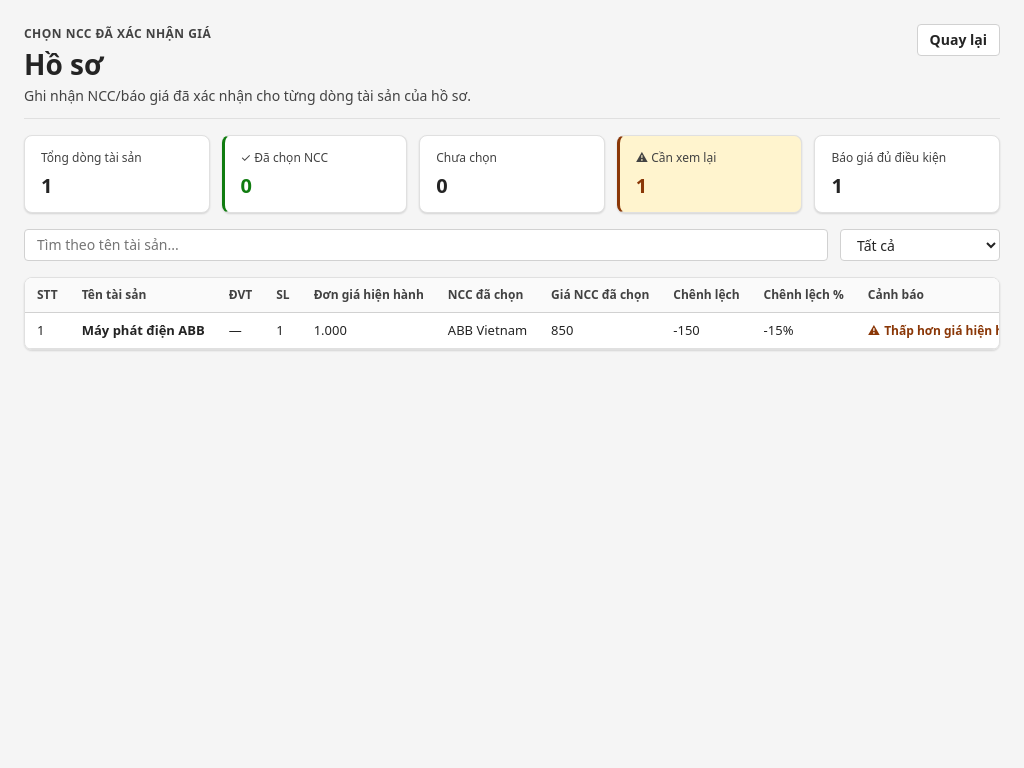
it: NccSelectionPage › starts with no candidate selected and no confirm CTA, even for stale lines
Click the row named "Xem chi tiết: Máy phát điện ABB".
click(524, 330)  # box [25,312,1023,348]
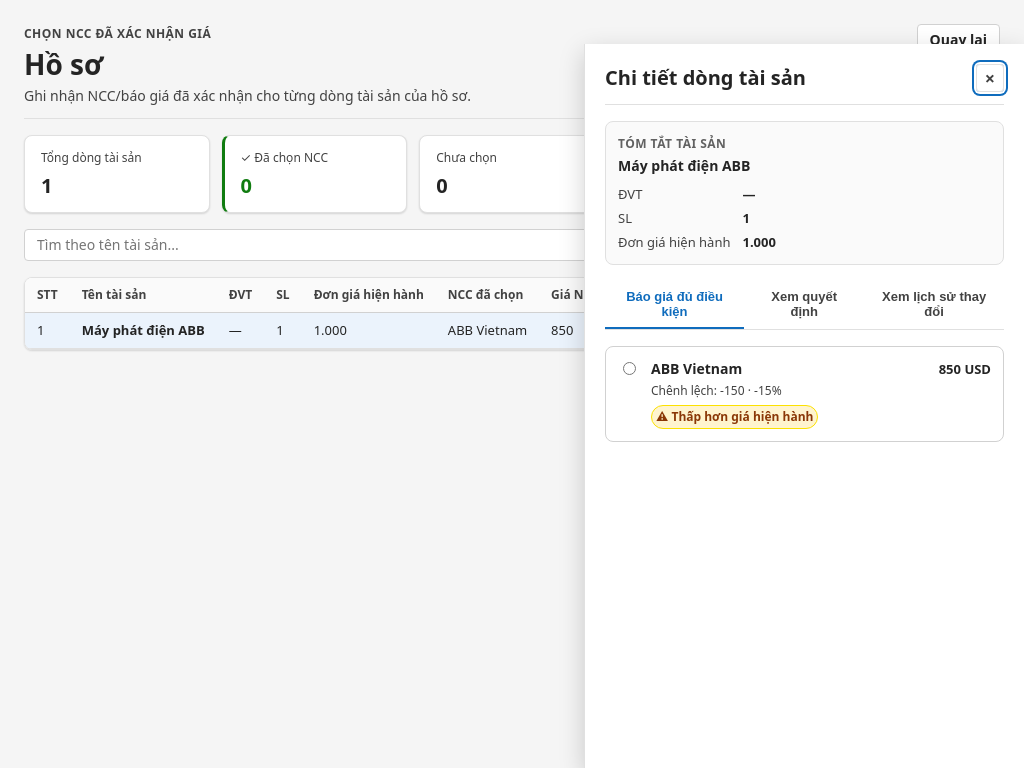
Now the radio button is not checked, box [623,362,636,375]
Click the tab "Xem quyết định".
click(804, 305)  # box [748,281,860,329]
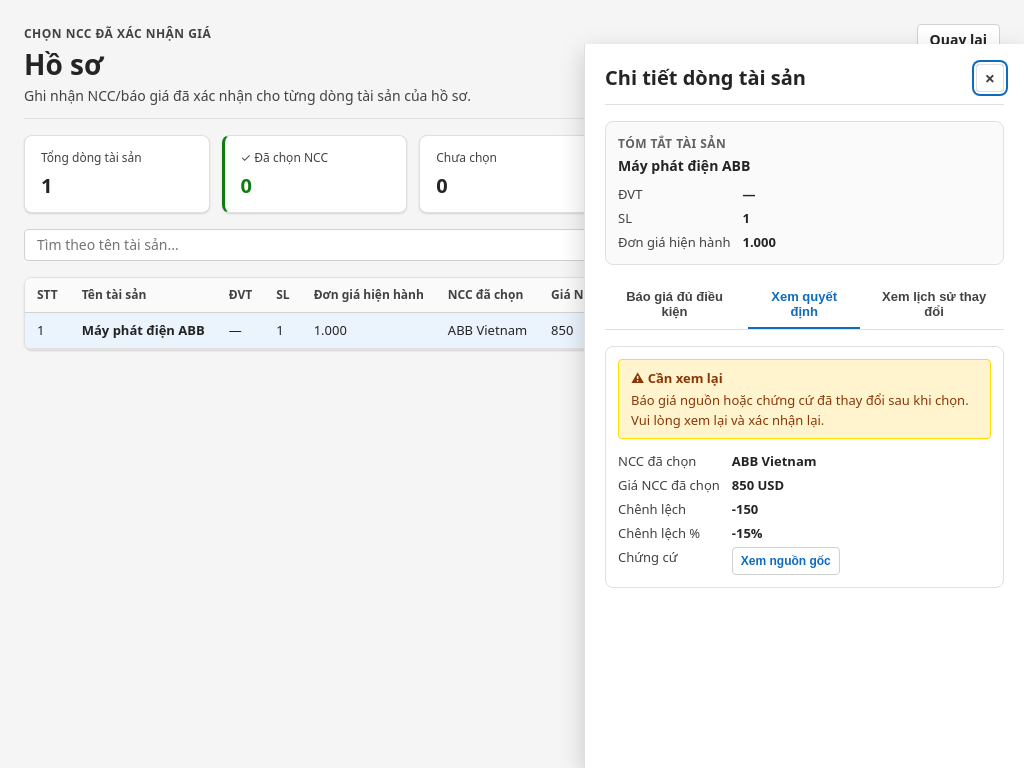
Now the element that starts with "Cần xem lại" is shown, box [618,359,991,439]
